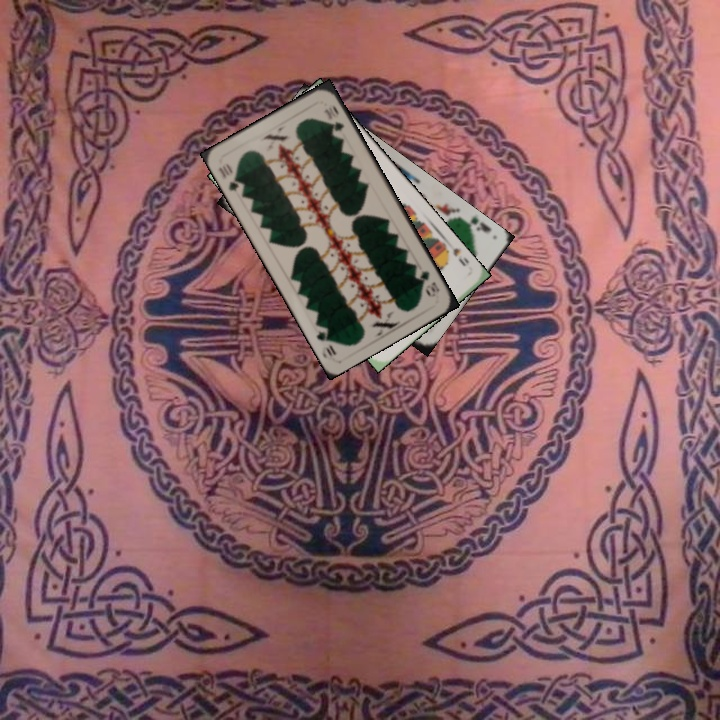G10: (214, 159, 247, 194), (415, 266, 442, 300)
GK: (457, 212, 494, 235)
S9: (439, 240, 472, 269)
